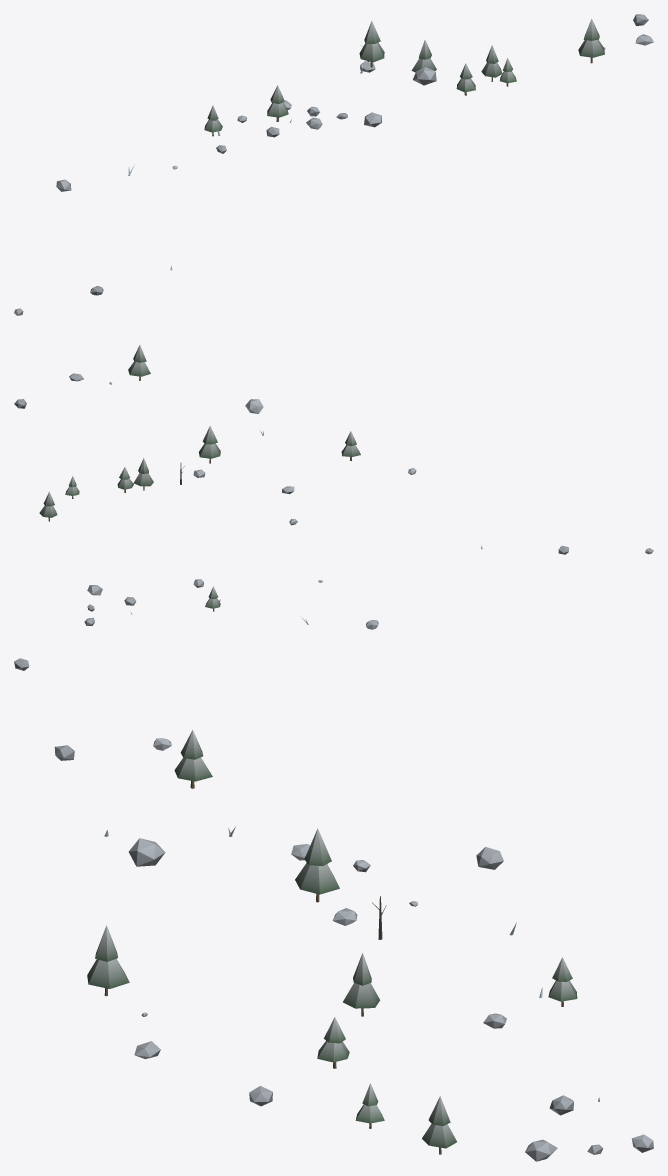
File: frost_land_scatter_c17_08_lod1.glb
The picture shows the model from 3 angles, top to bottom: view 1: azimuth 30°, elevation 25°; view 2: azimuth 150°, elevation 25°; view 3: azimuth 270°, elevation 25°; orthographic projection. The views are drawn at different scales.
Parts seen in each view (by area): view 1: frost_land_scatter_c17_08_lod1; view 2: frost_land_scatter_c17_08_lod1; view 3: frost_land_scatter_c17_08_lod1.
Part boxes in pixels (x1=…): frost_land_scatter_c17_08_lod1: x1=14, y1=14, x2=653, y2=315; frost_land_scatter_c17_08_lod1: x1=14, y1=345, x2=653, y2=629; frost_land_scatter_c17_08_lod1: x1=14, y1=658, x2=653, y2=1161.
Bounding box in the file's own units: 212 × 55.99 × 105.
